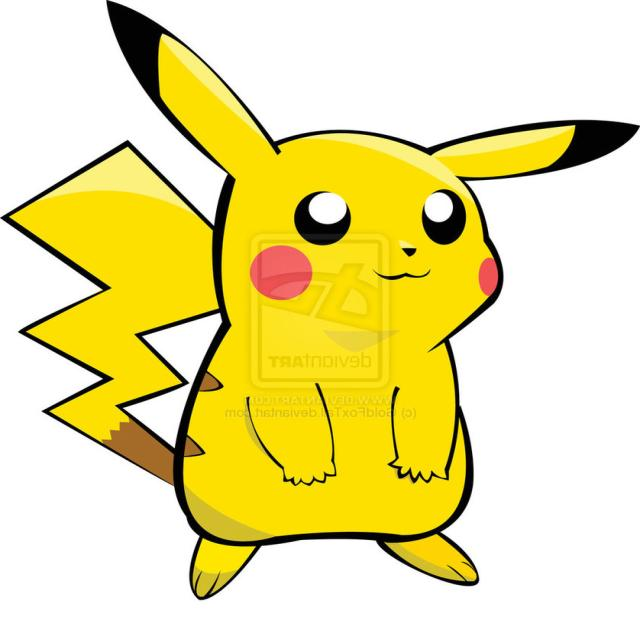Pikachu: (185, 130, 494, 585)
